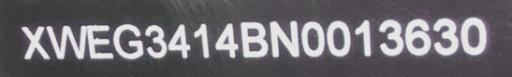letter: (44, 22, 88, 61), (268, 18, 302, 59), (237, 19, 271, 58), (112, 20, 146, 59), (430, 14, 460, 57), (458, 16, 488, 59), (298, 18, 328, 61), (376, 18, 406, 61), (85, 22, 115, 63), (404, 14, 432, 57), (20, 24, 52, 61), (350, 14, 376, 59), (324, 18, 354, 57), (211, 21, 239, 60), (165, 22, 193, 61), (143, 23, 169, 60), (190, 20, 212, 61)
